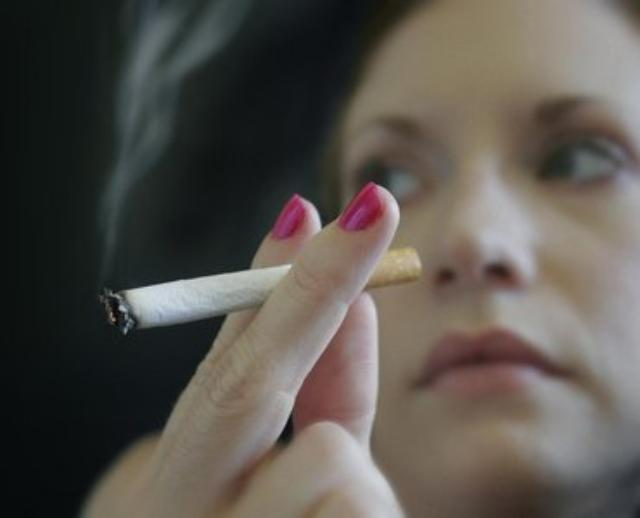SafeDriving: (514, 116, 638, 204)
Smoking: (91, 242, 426, 334)
